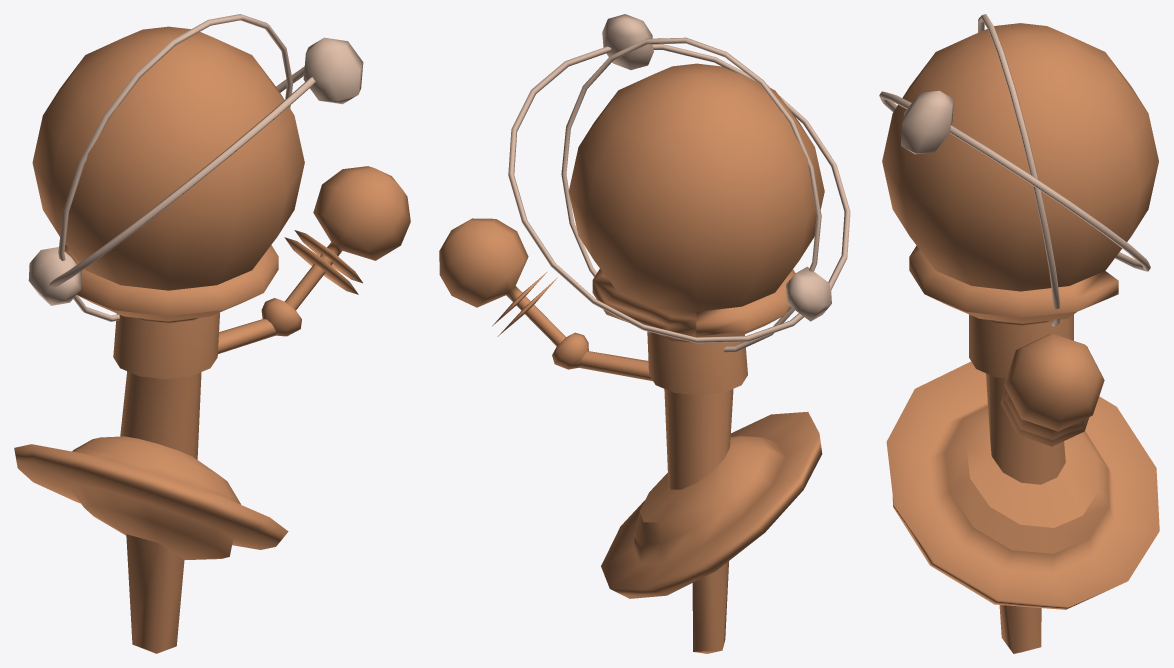
Rendered from Prop_Planet_C.fbx.
3 renders of one model, left to right at view 1: azimuth 30°, elevation 25°; view 2: azimuth 150°, elevation 25°; view 3: azimuth 270°, elevation 25°, orthographic. The views are drawn at different scales.
Parts seen in each view (by area): view 1: Planet_C_04; view 2: Planet_C_04; view 3: Planet_C_04.
Boxes of the visible parts, left/top/right/bottom form: Planet_C_04: left=14, top=14, right=410, bottom=653; Planet_C_04: left=439, top=14, right=850, bottom=653; Planet_C_04: left=879, top=14, right=1159, bottom=653.
Bounding box in the file's own units: 296 × 461 × 181.
